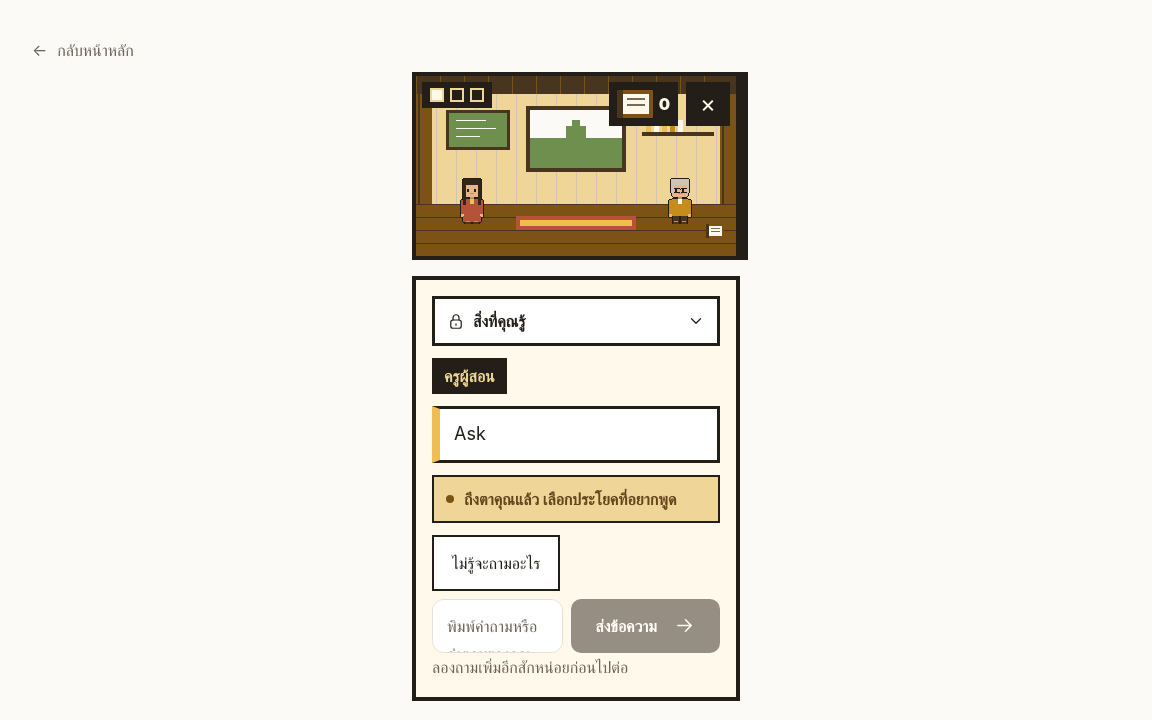
it: clears notebook cards when leaving and starting a new room
Type "why differ" into the text box named "ข้อความของคุณ". click: (498, 626)
box: [432, 599, 563, 653]
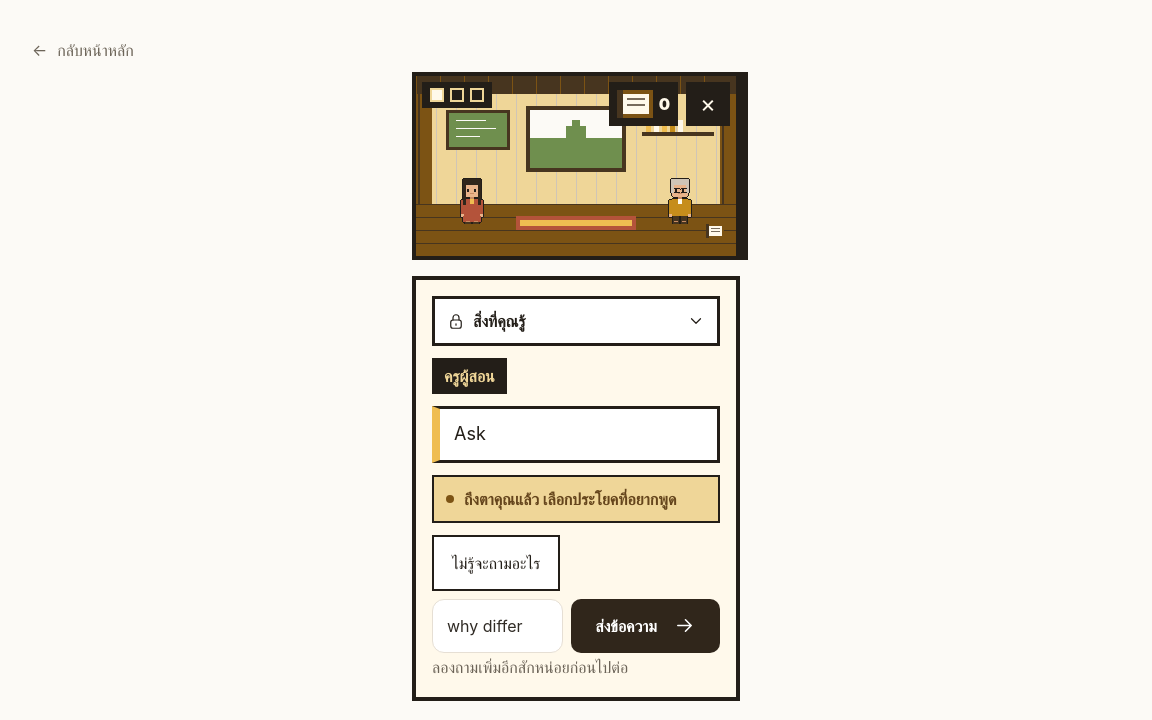
Click the button "ส่งข้อความ". click: (646, 626)
box: [571, 599, 720, 653]
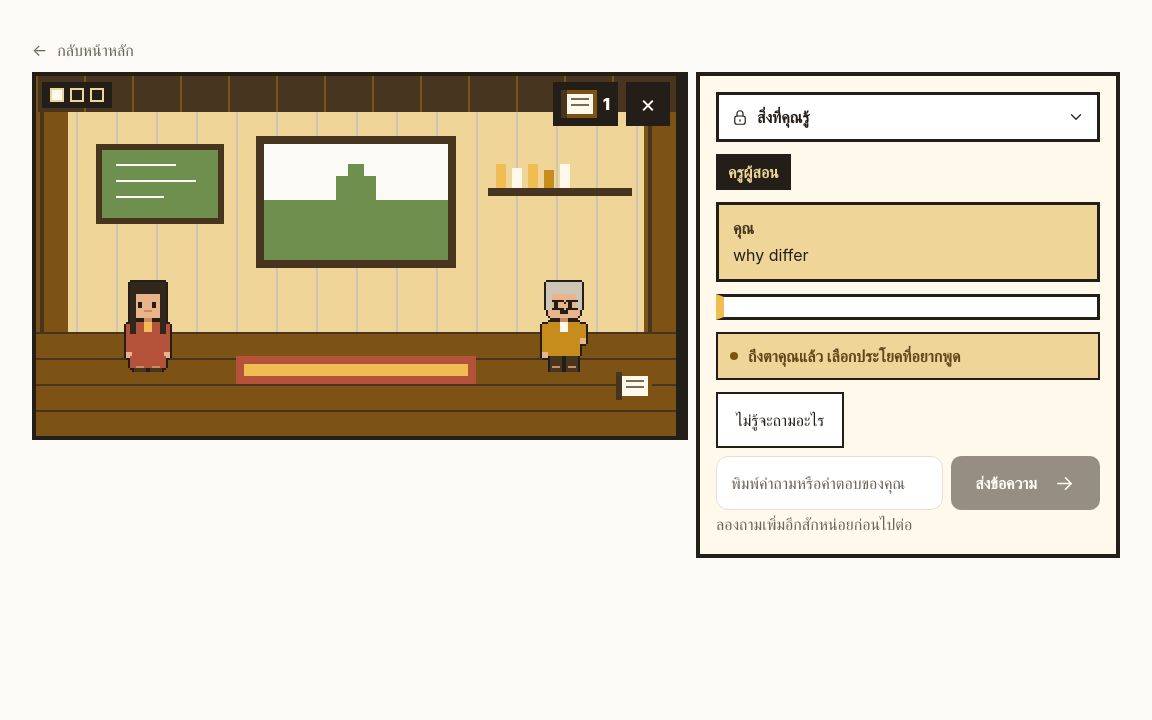
Click the button named "ออกจากห้อง / เริ่มใหม่". click: (648, 104)
box: [626, 82, 670, 126]
(page scrolled)
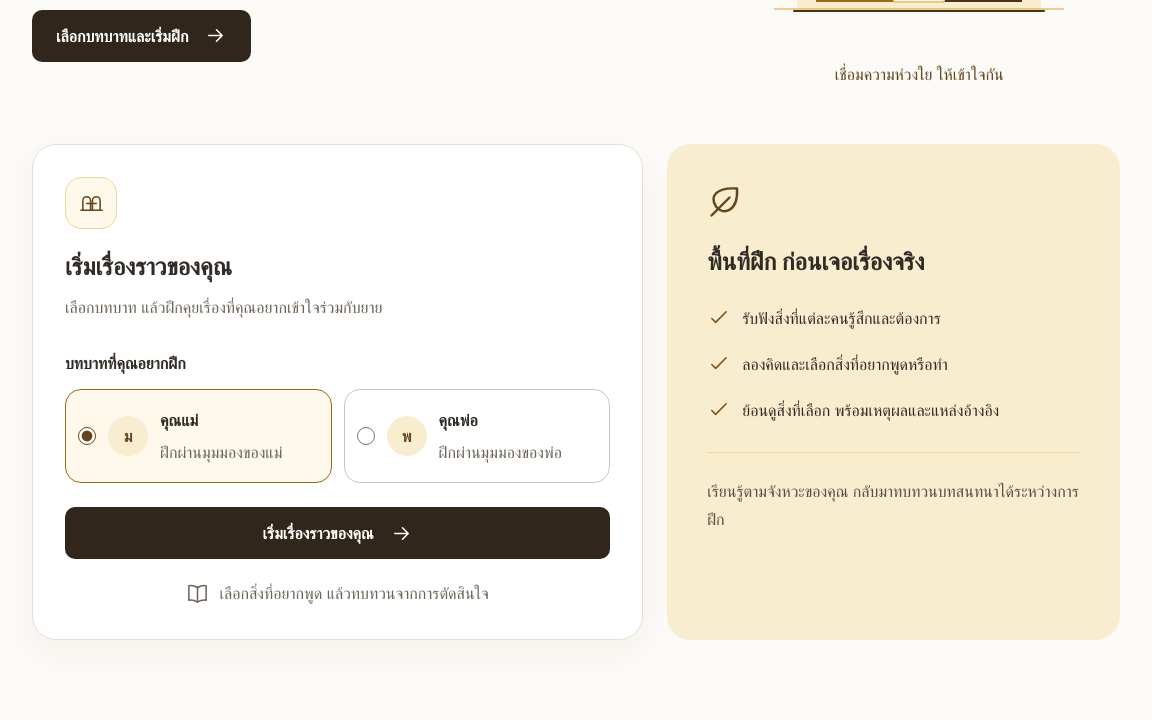
Click the button "เริ่มเรื่องราวของคุณ". click: (338, 533)
box: [65, 507, 610, 559]
(page scrolled)
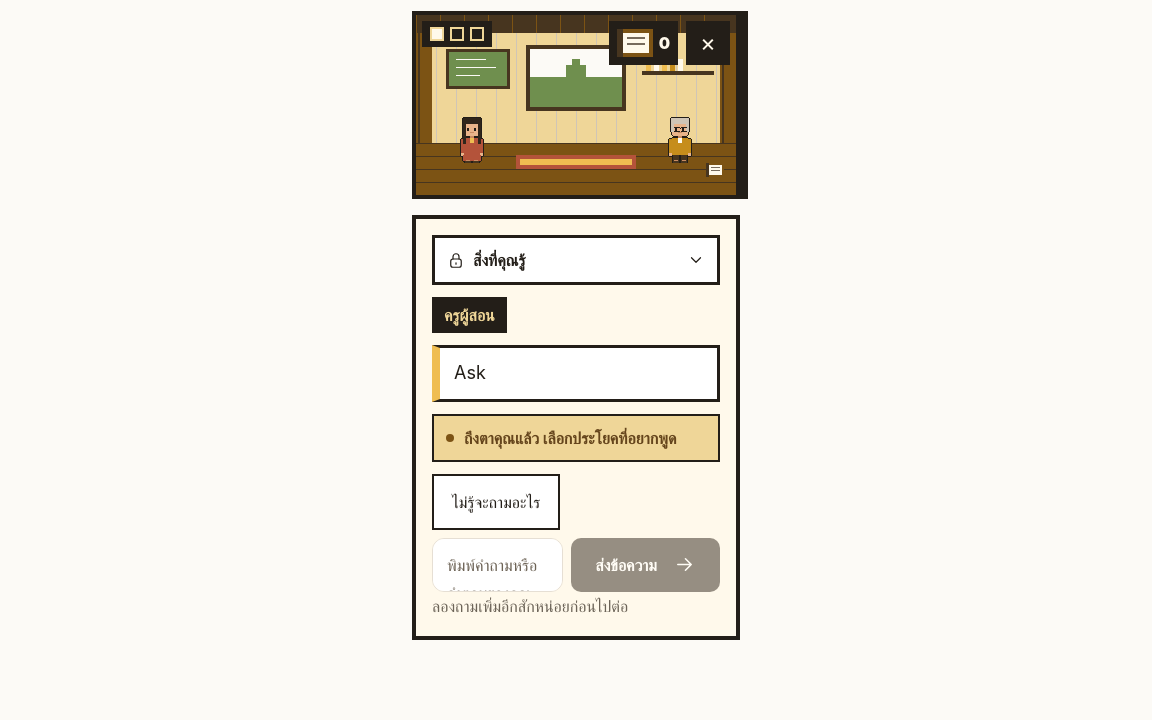
Expected: the text "สมุดโน้ตบัตรความรู้" does not show "S41"
Expected: the text box named "ข้อความของคุณ" is shown, [432, 538, 563, 592]
